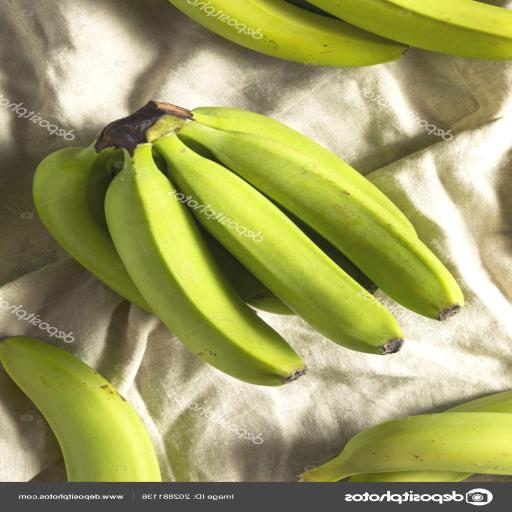banana-unripe: (20, 90, 479, 363)
